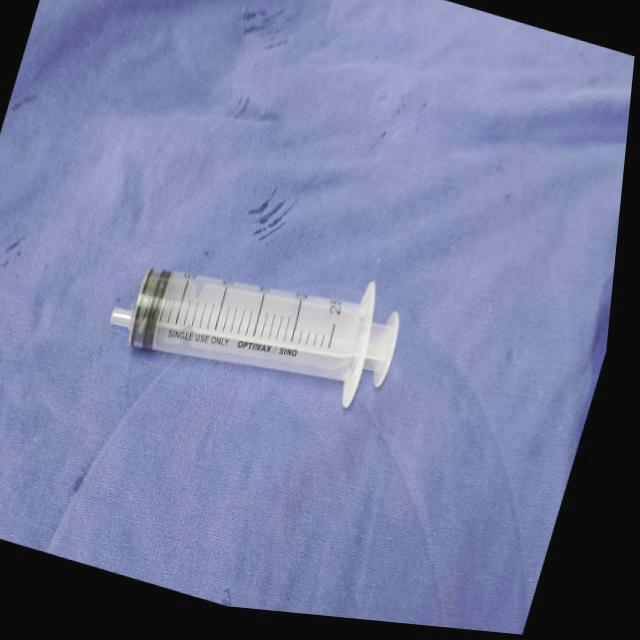Pathological: (3, 1, 636, 635)
Sharps: (110, 265, 401, 409)
